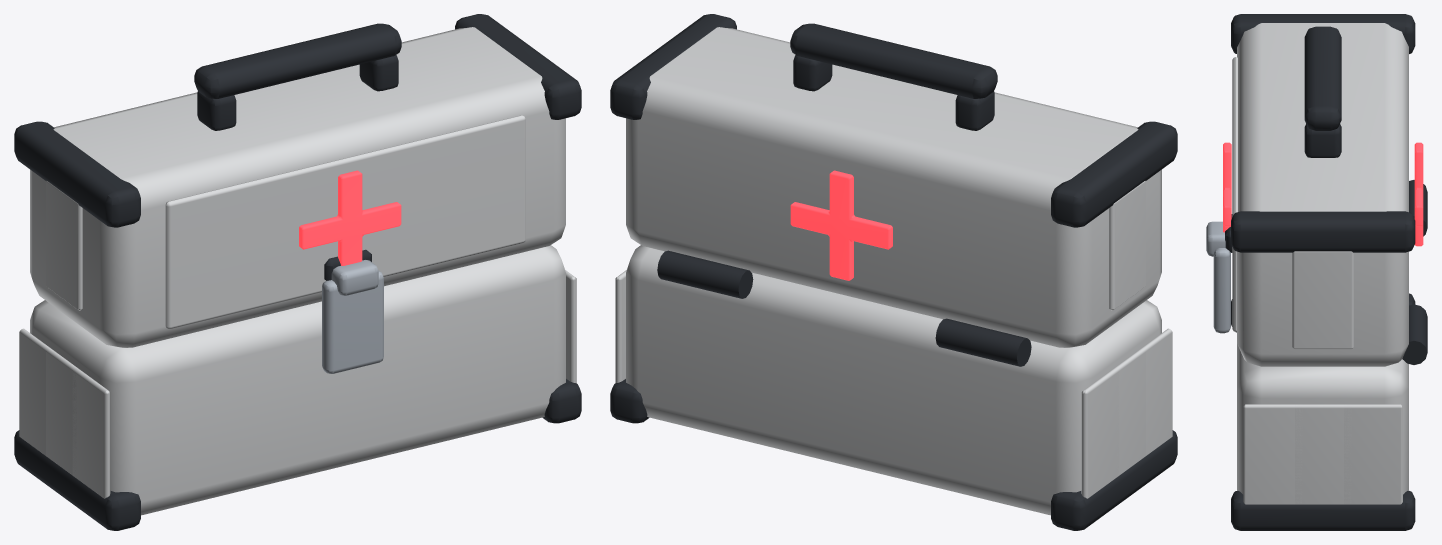
Rendered from medkit.glb.
3 renders of one model, left to right at view 1: azimuth 30°, elevation 25°; view 2: azimuth 150°, elevation 25°; view 3: azimuth 270°, elevation 25°, orthographic. The views are drawn at different scales.
Visible parts, largest first — view 1: lid, body, handle, latch, hardware, cross; view 2: lid, body, handle, hardware, cross; view 3: lid, body, handle, hardware, latch, cross.
Boxes of the visible parts, box(x1,y1,x2,y2) form: lid: box(30, 27, 565, 347); body: box(19, 245, 576, 515); handle: box(14, 14, 581, 280); latch: box(322, 260, 383, 373); hardware: box(14, 379, 581, 530); cross: box(299, 170, 401, 265); lid: box(626, 27, 1161, 347); body: box(615, 245, 1172, 515); handle: box(610, 14, 1177, 227); hardware: box(610, 250, 1177, 530); cross: box(790, 170, 892, 280); lid: box(1232, 23, 1408, 366); body: box(1237, 344, 1408, 504); handle: box(1225, 14, 1415, 252); hardware: box(1231, 180, 1427, 530); latch: box(1206, 221, 1230, 333); cross: box(1223, 142, 1423, 246).
Bounding box in the file's own units: 0.41 × 0.325 × 0.18.
